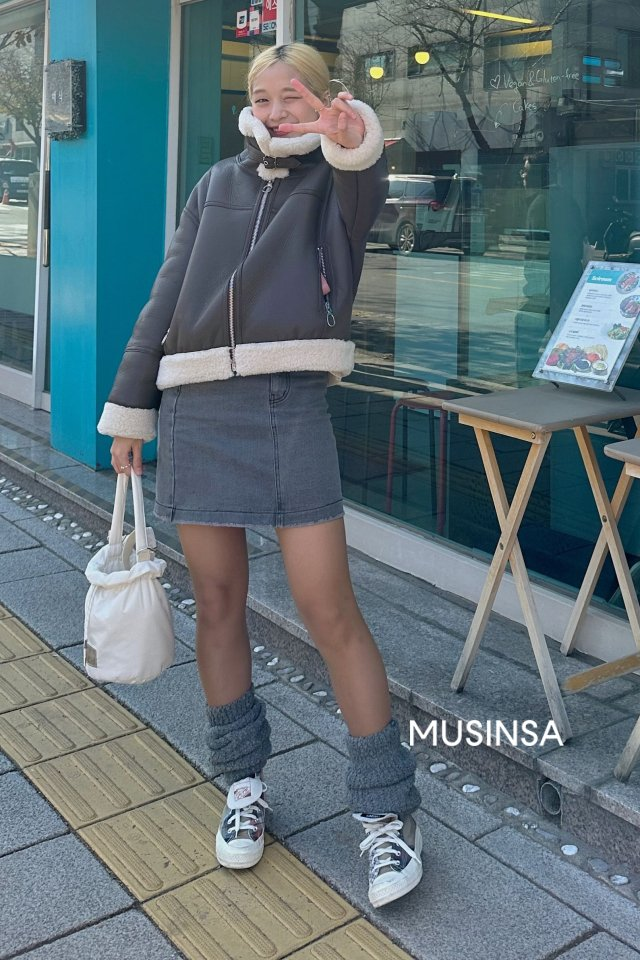Handbag: (78, 455, 183, 695)
Jacket: (116, 127, 378, 385)
Skirt: (211, 772, 449, 920), (146, 369, 354, 525)
